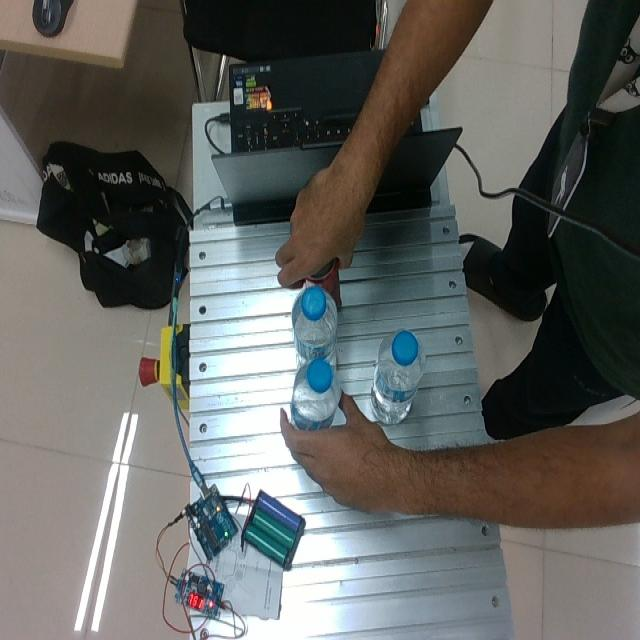lavie: (369, 329, 424, 423), (290, 356, 340, 431), (291, 285, 338, 364)
